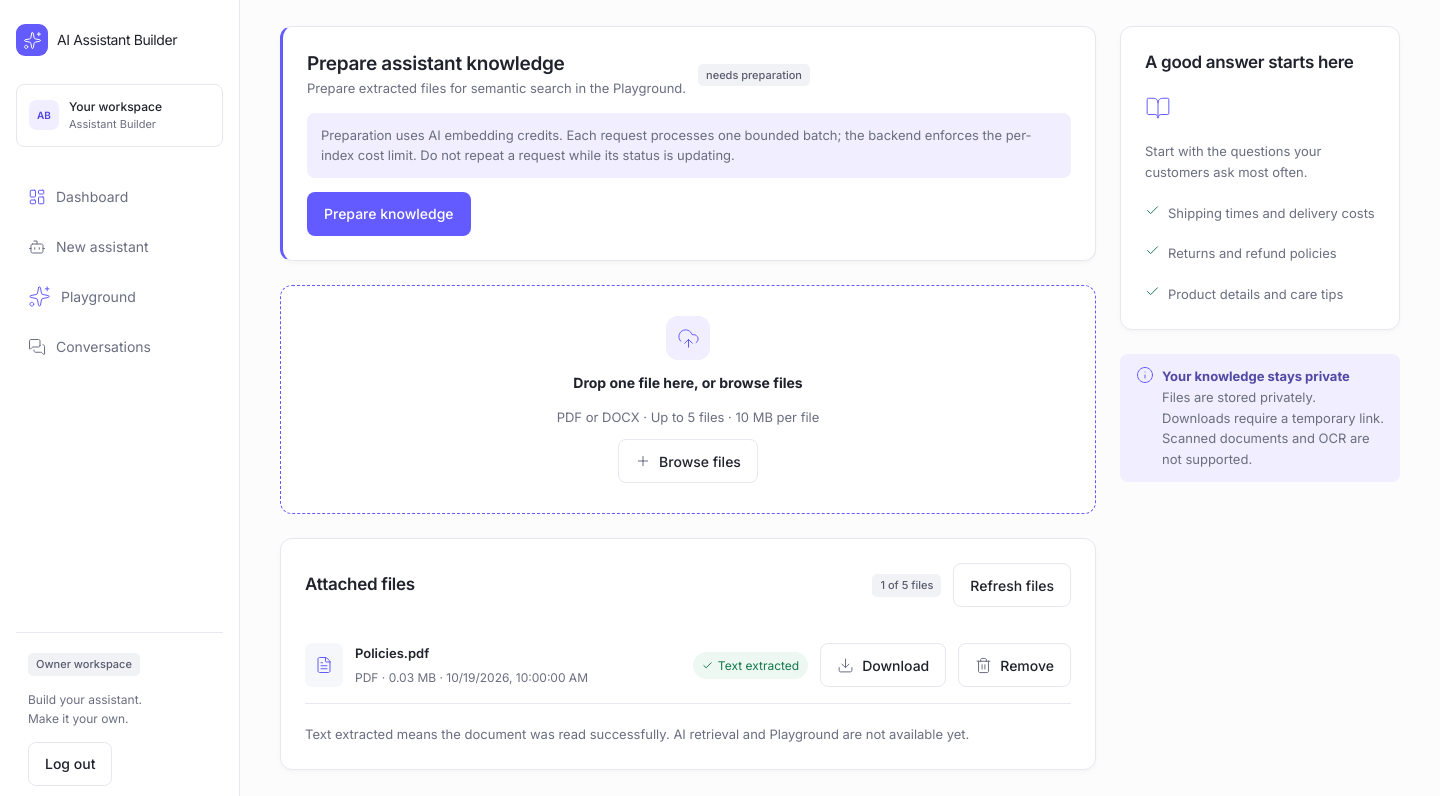
Test: knowledge UX › rejects unsafe signed URL schemes
(page scrolled)
Expected: the text "Text extracted" is shown, [693,652,808,679]
Click the button with aria-label "Download Policies.pdf".
click(883, 665)  # box [820,643,946,687]
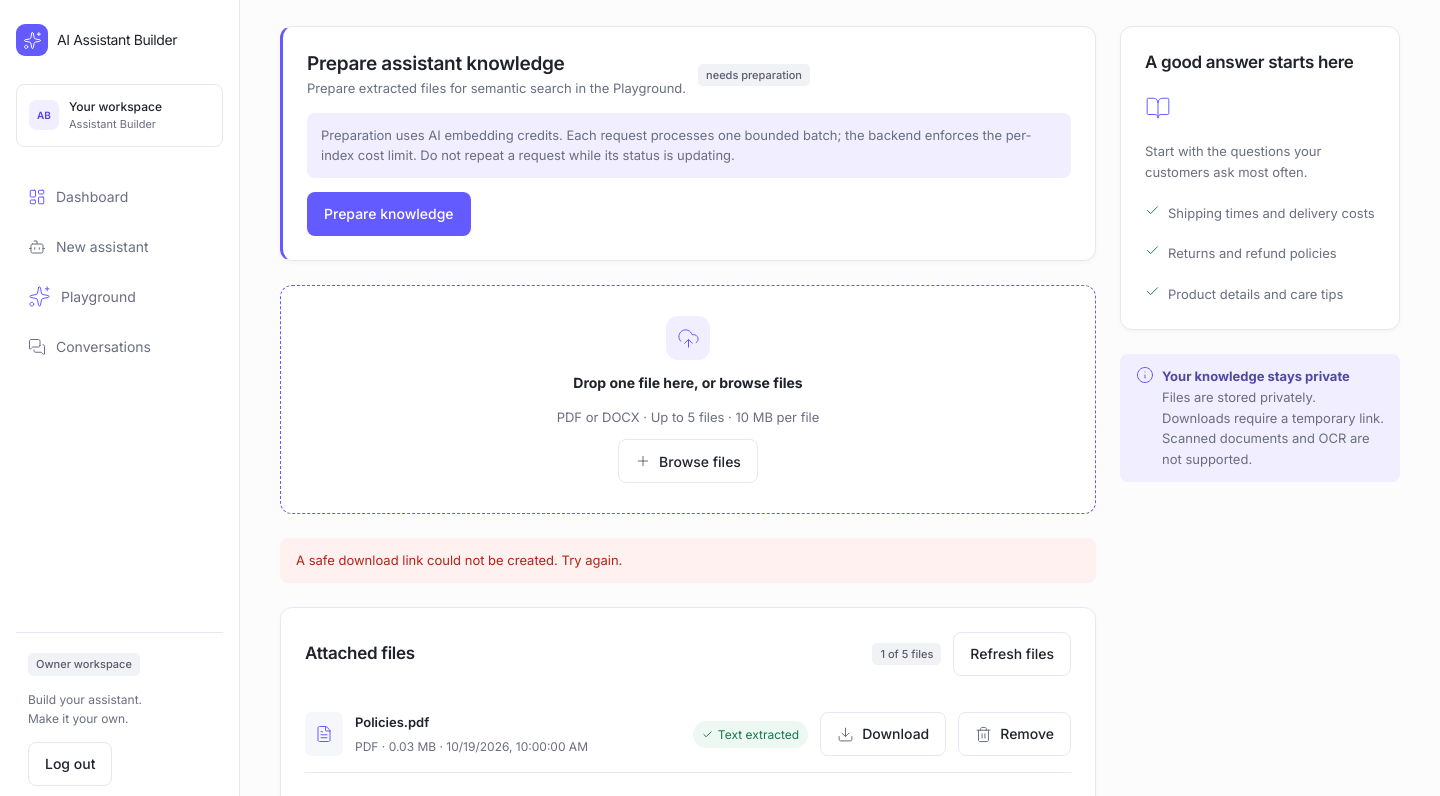
Expected: the message "A safe download link could not be created. Try again." is shown, [280,538,1096,583]
